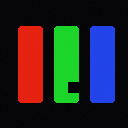1 square: (68, 82, 78, 92)
